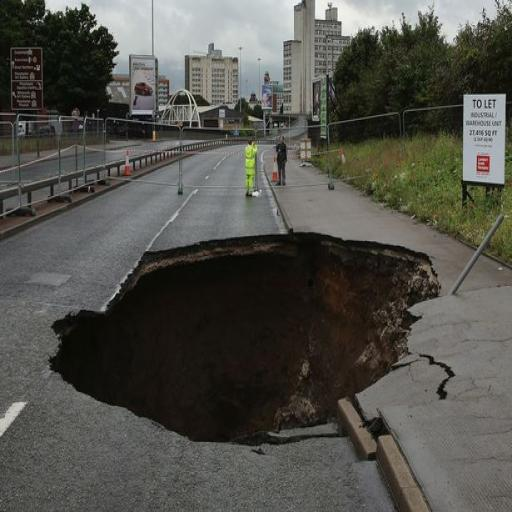chair: (0, 98, 508, 196)
entrance: (41, 226, 481, 464)
laptop: (245, 139, 257, 195)
